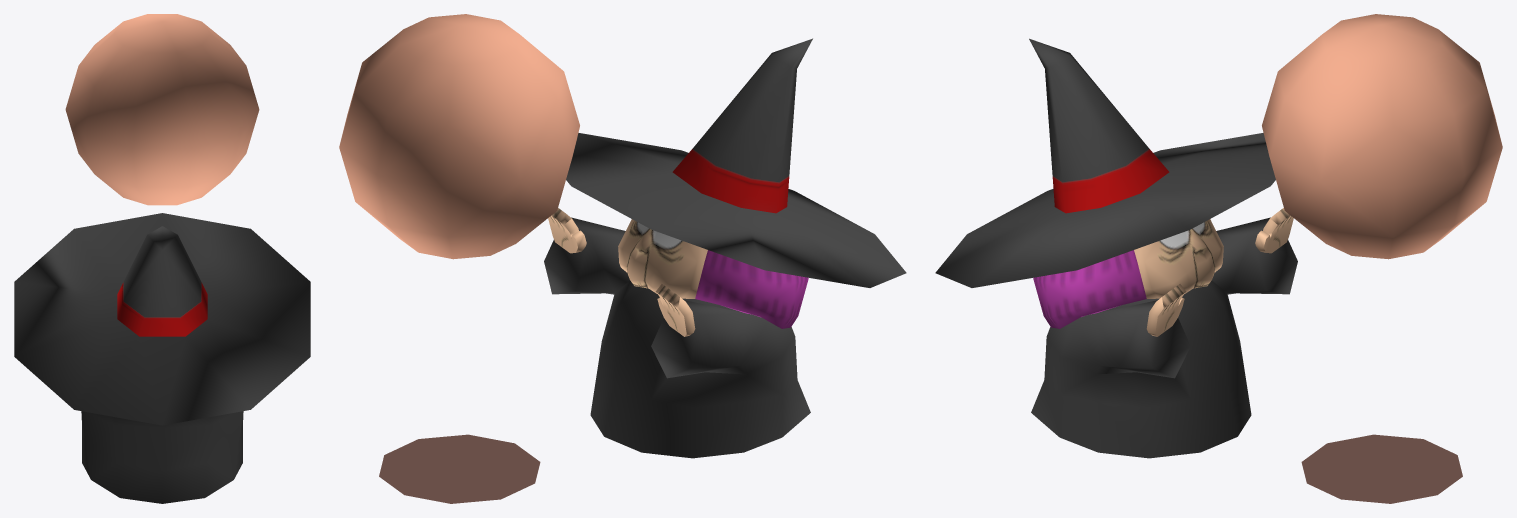
The model's file is dbzsmr.ico.obj.
The picture shows the model from 3 angles, left to right: view 1: azimuth 30°, elevation 25°; view 2: azimuth 150°, elevation 25°; view 3: azimuth 270°, elevation 25°; orthographic projection. The views are drawn at different scales.
Bounding box in the file's own units: 2.55 × 2.69 × 3.09.
